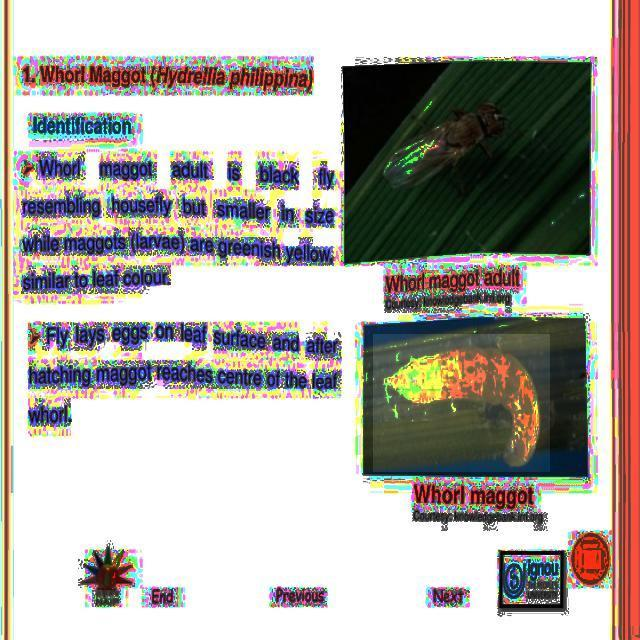whorl-maggot: (373, 334, 550, 472)
